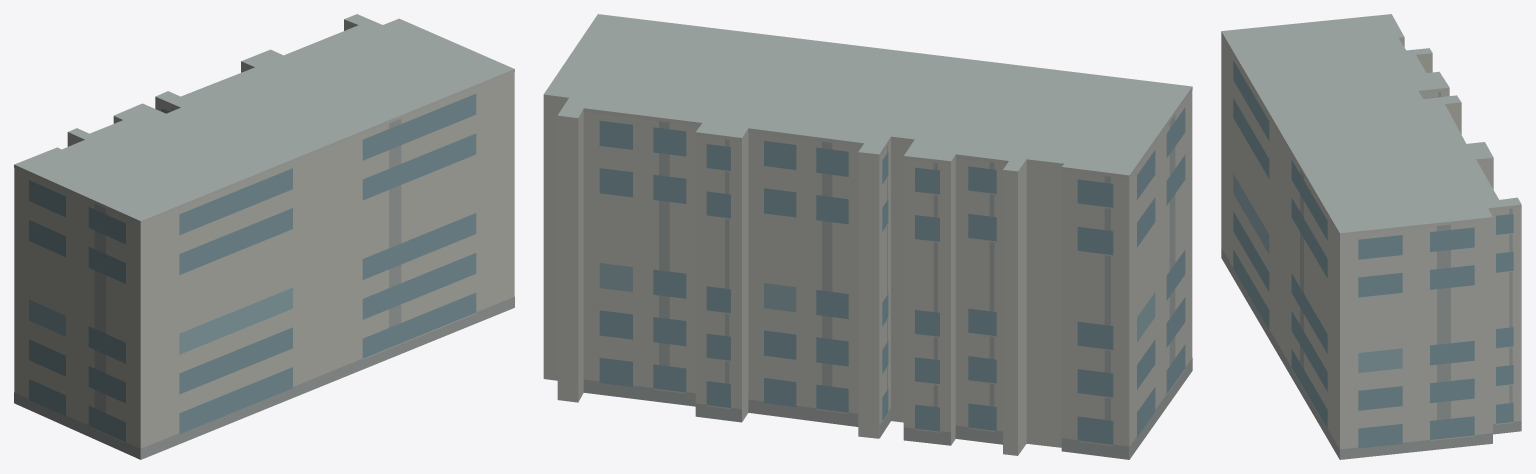
File: survey-upis-32833872.glb
3 renders of one model, left to right at view 1: azimuth 30°, elevation 25°; view 2: azimuth 150°, elevation 25°; view 3: azimuth 270°, elevation 25°, orthographic. The views are drawn at different scales.
Parts seen in each view (by area): view 1: survey-upis-32833872.tmp; view 2: survey-upis-32833872.tmp; view 3: survey-upis-32833872.tmp.
Boxes of the visible parts, box(x1,y1,x2,y2) form: survey-upis-32833872.tmp: box(14, 14, 514, 459); survey-upis-32833872.tmp: box(543, 14, 1192, 459); survey-upis-32833872.tmp: box(1221, 14, 1521, 459).
Size of the model in its own units: 37.78 by 18.2 by 21.87.
